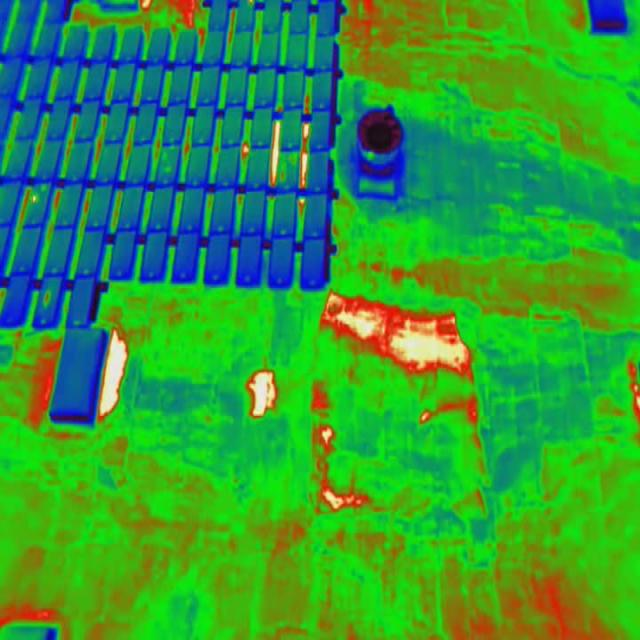Orange-Spots: (280, 162, 286, 185), (44, 290, 50, 306), (164, 165, 171, 175), (32, 194, 39, 203), (40, 184, 47, 191), (247, 0, 254, 4)
